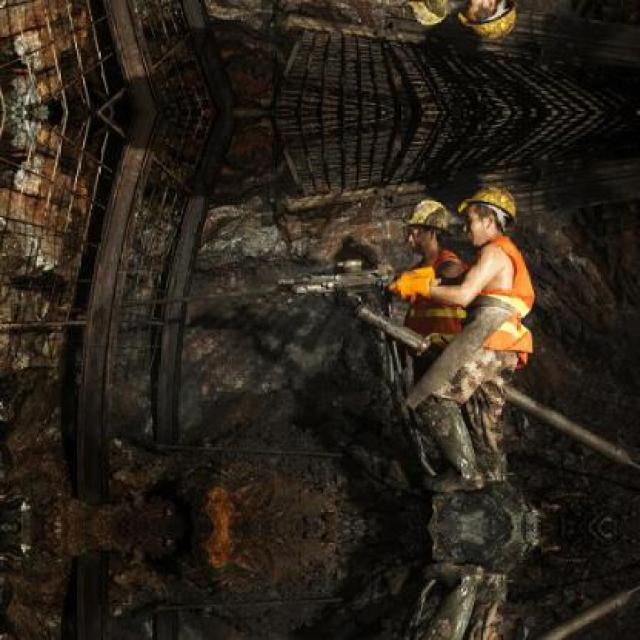helmet: (453, 179, 525, 248), (452, 0, 526, 46), (401, 194, 452, 258), (399, 0, 452, 32)
